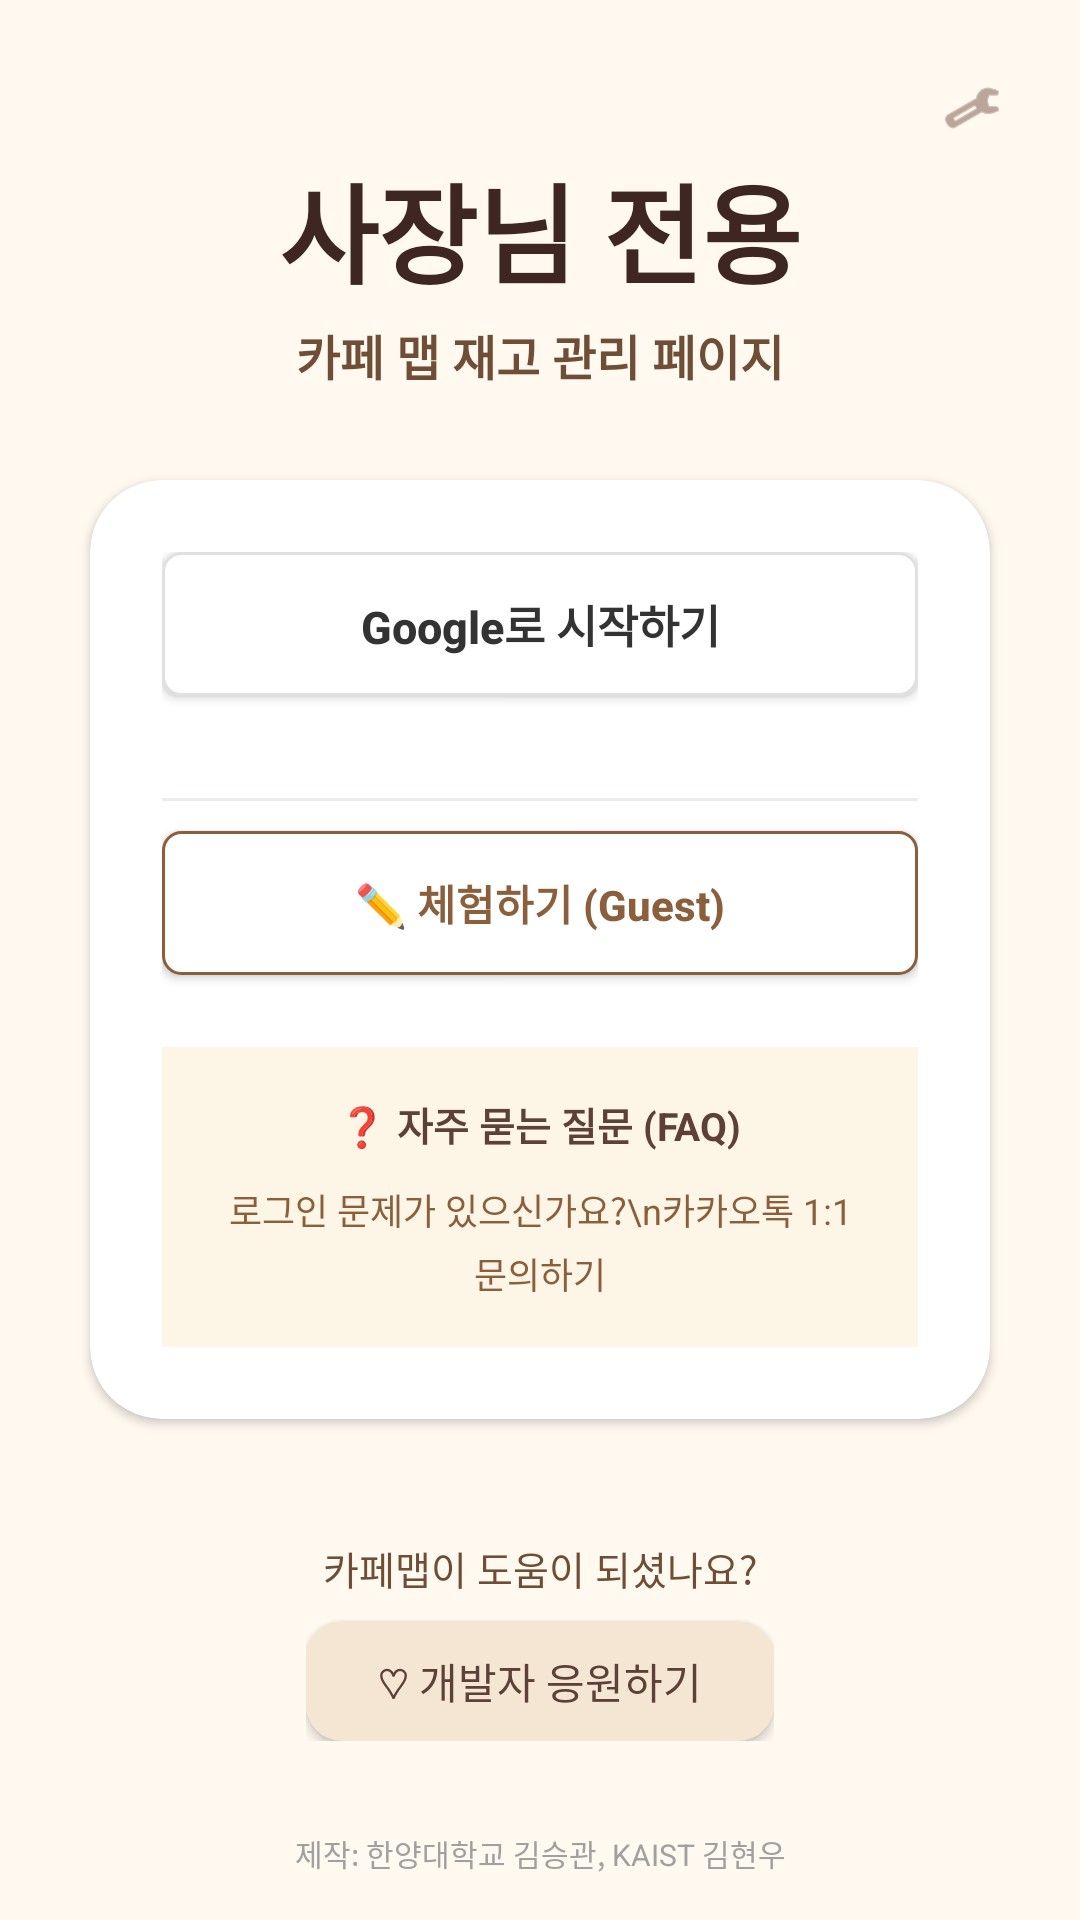

Icon bounding boxes for this 1080×1920 phone screenshot, format (x1, y1, x2, y2):
manage: (945, 87, 999, 129)
